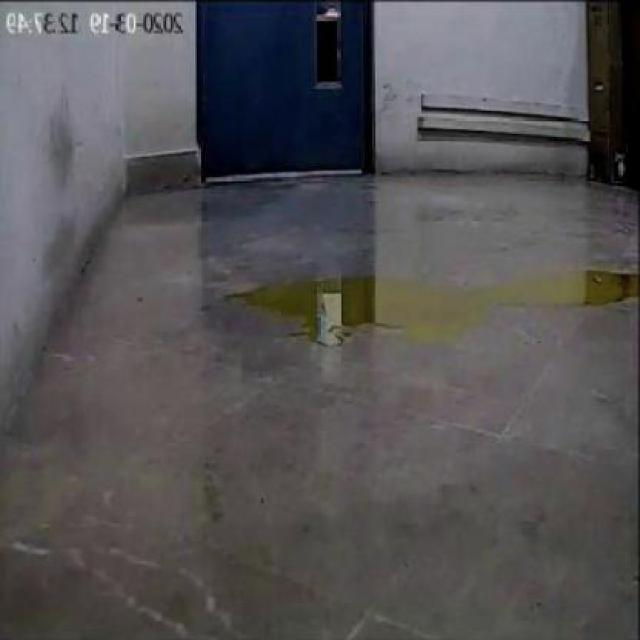spillage: (232, 272, 635, 346)
